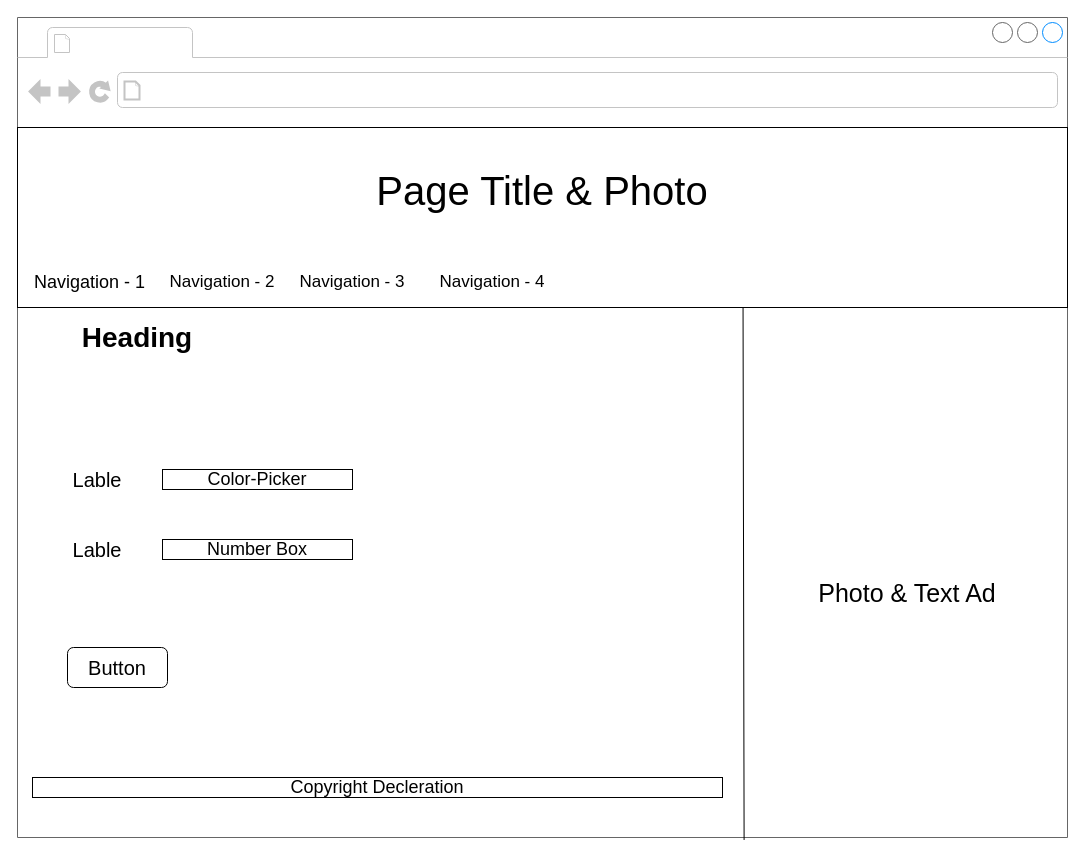
This 1085x859 diagram has some shape labels left out. The centre of each missing label's shape, as x and y in pixels:
"https://www.default.com" goes at (x=272, y=90).
"Page 1" goes at (x=132, y=42).
